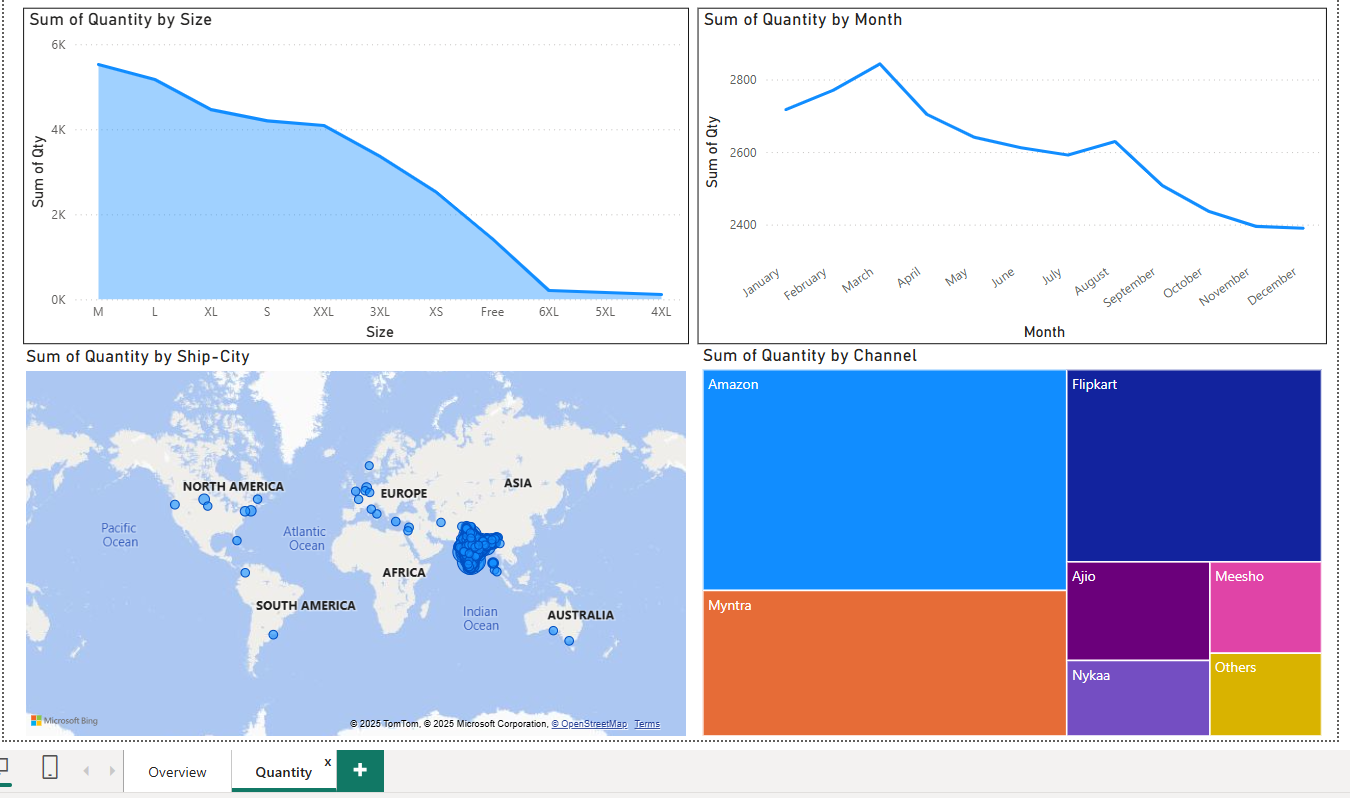

Layout of this report page (visuals, bound fields, positions):
{"tool":"powerbi","page":{"name":"Quantity","canvas":[1280,720],"ordinal":1},"visuals":[{"type":"lineChart","title":"Sum of Quantity by Month","fields":{"Y":["Sum(Fashion E-commerce sales.Qty)"],"Category":["Fashion E-commerce sales.Date.Variation.Date Hierarchy.Month"]},"box":[665.7,15.7,604.2,323.2],"z":0},{"type":"treemap","title":"Sum of Quantity by Channel ","fields":{"Group":["Fashion E-commerce sales.Channel "],"Values":["Sum(Fashion E-commerce sales.Qty)"]},"box":[665.7,338.9,604.2,381.1],"z":1000},{"type":"map","title":"Sum of Quantity by Ship-City","fields":{"Category":["Fashion E-commerce sales.Ship-City"],"Size":["Sum(Fashion E-commerce sales.Qty)"]},"box":[15.7,340.1,644,379.9],"z":2000},{"type":"areaChart","title":"Sum of Quantity by Size","fields":{"Category":["Fashion E-commerce sales.Size"],"Y":["Sum(Fashion E-commerce sales.Qty)"]},"box":[18.1,15.7,639.2,323.2],"z":3000}]}

Visuals, with their boxes in screenshot pixels (x1, y1, x2, y2):
"Sum of Quantity by Month" lineChart: Rect(696, 2, 1324, 338)
"Sum of Quantity by Channel " treemap: Rect(696, 338, 1324, 735)
"Sum of Quantity by Ship-City" map: Rect(20, 340, 690, 735)
"Sum of Quantity by Size" areaChart: Rect(22, 2, 687, 338)
